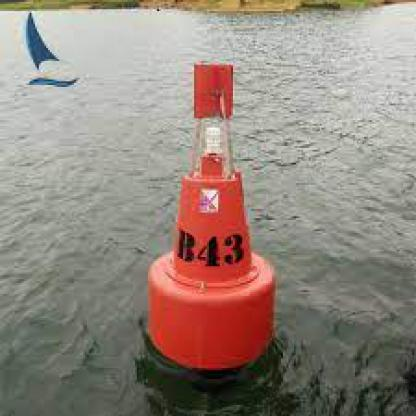buoy: (142, 55, 285, 379)
